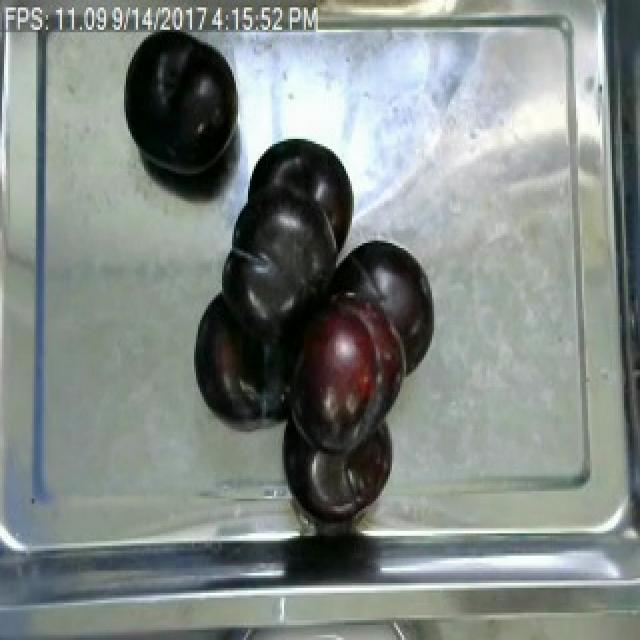Fruit: (278, 280, 412, 457), (120, 22, 244, 188), (184, 280, 304, 429)
